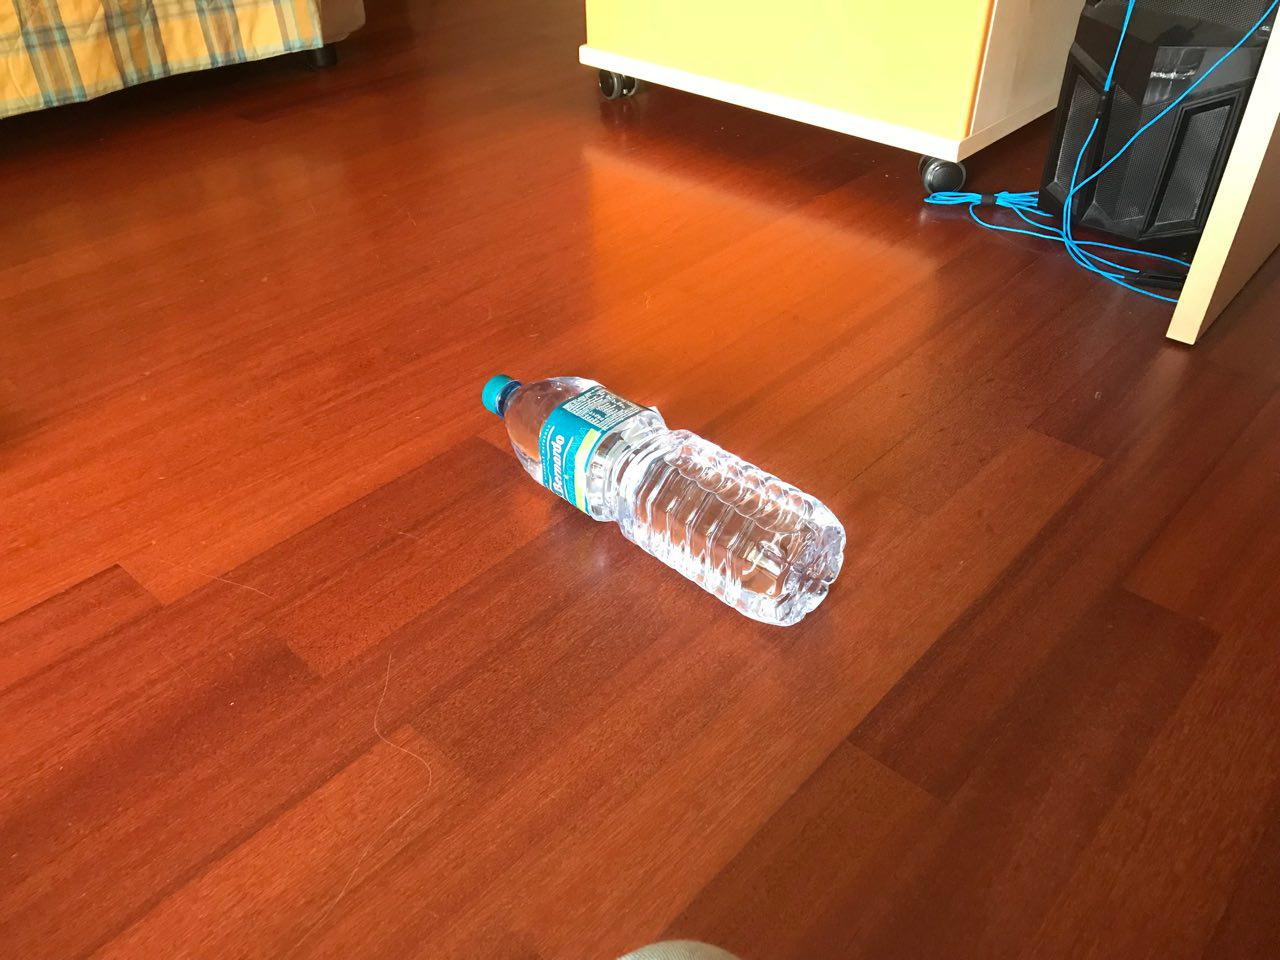san_bernardo: (480, 371, 847, 628)
